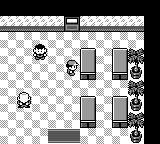main: (66, 60, 78, 76)
no-caminable: (1, 0, 159, 142), (128, 49, 144, 143), (80, 16, 143, 32), (1, 16, 63, 32), (80, 48, 96, 80), (81, 96, 96, 128), (112, 48, 127, 79), (113, 97, 127, 128)
npc: (32, 45, 48, 60), (17, 93, 31, 108)
puerta: (45, 128, 82, 143), (64, 16, 80, 31)
